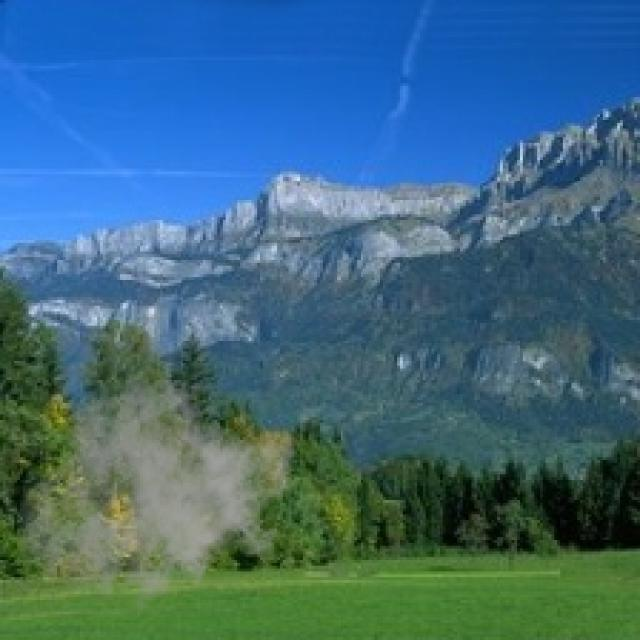smoke: (14, 368, 297, 626)
